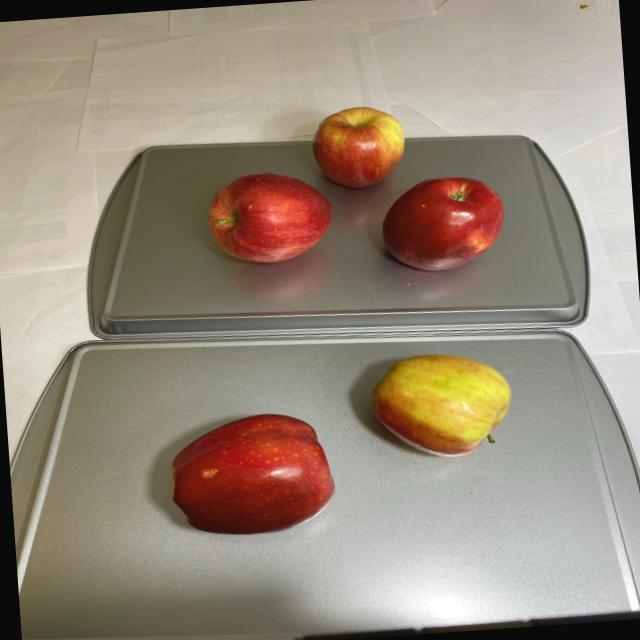apple: (158, 346, 526, 539), (194, 96, 512, 290)
